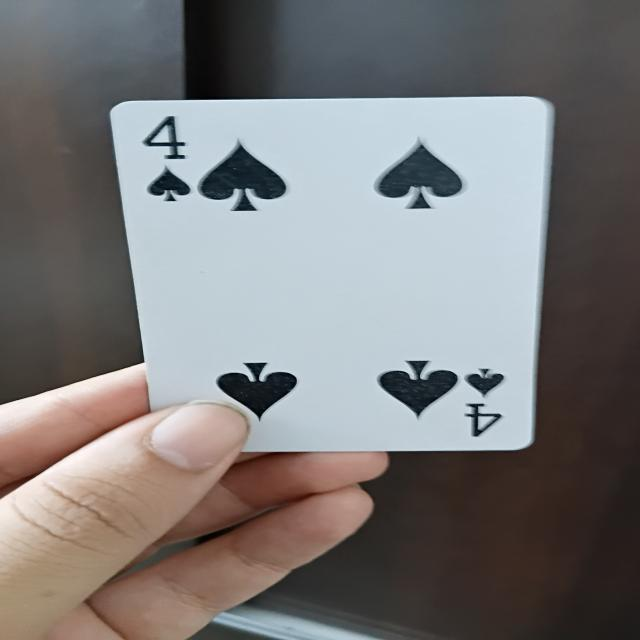4S: (111, 86, 550, 466)
